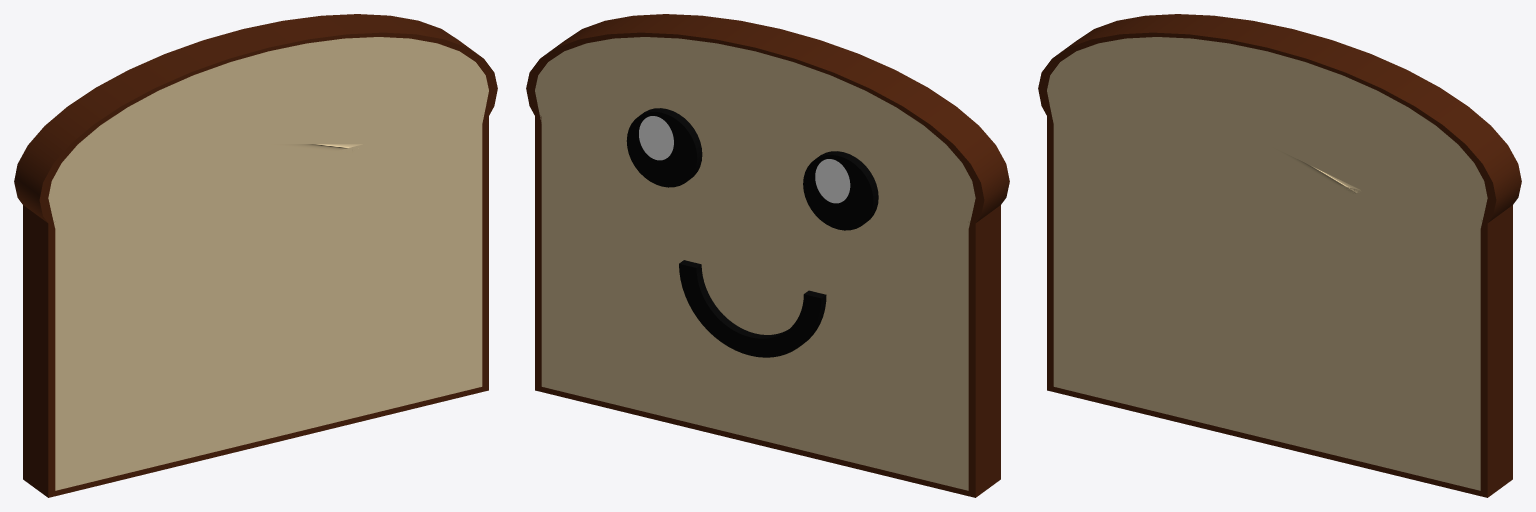
The model's file is bread.FBX.
3 views of the same model, side by side, from view 1: azimuth 30°, elevation 25°; view 2: azimuth 150°, elevation 25°; view 3: azimuth 330°, elevation 25° (orthographic).
Parts seen in each view (by area): view 1: Box001; view 2: Box001; view 3: Box001.
Part boxes in pixels (x1,y1,x2,y2): Box001: (14, 14, 497, 497); Box001: (526, 14, 1009, 497); Box001: (1038, 14, 1521, 497).
Size of the model in its own units: 52 by 42.99 by 6.
